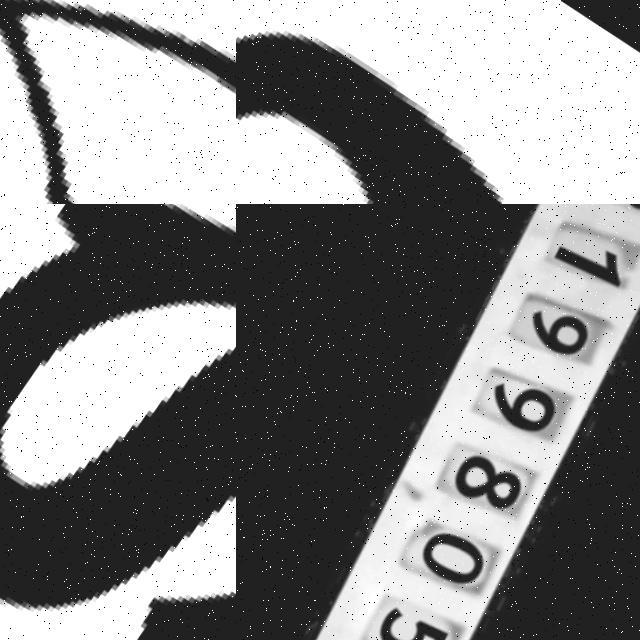0: (404, 502, 523, 607)
1: (545, 204, 640, 298)
5: (366, 578, 484, 640)
6: (236, 0, 640, 204)
8: (438, 426, 557, 531)
9: (469, 347, 591, 455), (510, 278, 622, 375)
S: (0, 204, 236, 640)
W: (0, 0, 236, 204)
